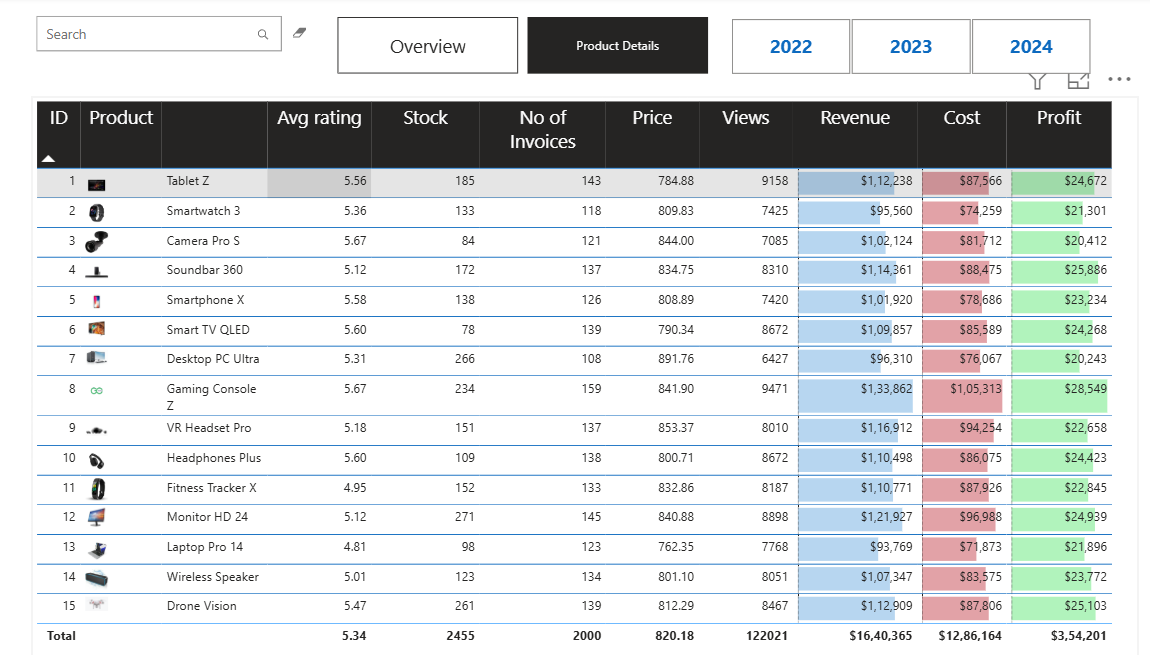

This screenshot's page, from the dashboard's own definition file:
{"tool":"powerbi","page":{"name":"Product Details","canvas":[1280,720],"ordinal":1},"visuals":[{"type":"tableEx","fields":{"Values":["DimProduct.Product ID","DimProduct.Img","DimProduct.Product","All Measures.avg rating","DimProduct.Stock Qty","All Measures.Invoices","FactsSalesData.Avg Sales Amt","All Measures.Views","All Measures.Revenue","All Measures.Cost","All Measures.Profit"]},"box":[43,109.2,1195,610.8],"z":0},{"type":"pageNavigator","box":[374.1,23.2,400.6,61.2],"z":2},{"type":"textFilter25A4896A83E0487089E2B90C9AE57C8A","fields":{"field":["DimProduct.Product"]},"box":[43,16.6,312.8,67.9],"z":3},{"type":"slicer","fields":{"Values":["Calendar.Year"]},"box":[774.6,18.2,437,72.8],"z":4}]}

Visuals, with their boxes in screenshot pixels (x1, y1, x2, y2), scaled from the page's 1280x720 canvas onto the 1150x655 screenshot:
tableEx - DimProduct.Product ID x DimProduct.Img: region(39, 99, 1112, 654)
pageNavigator: region(336, 21, 696, 77)
textFilter25A4896A83E0487089E2B90C9AE57C8A - DimProduct.Product: region(39, 15, 320, 77)
slicer - Calendar.Year: region(696, 17, 1089, 83)
